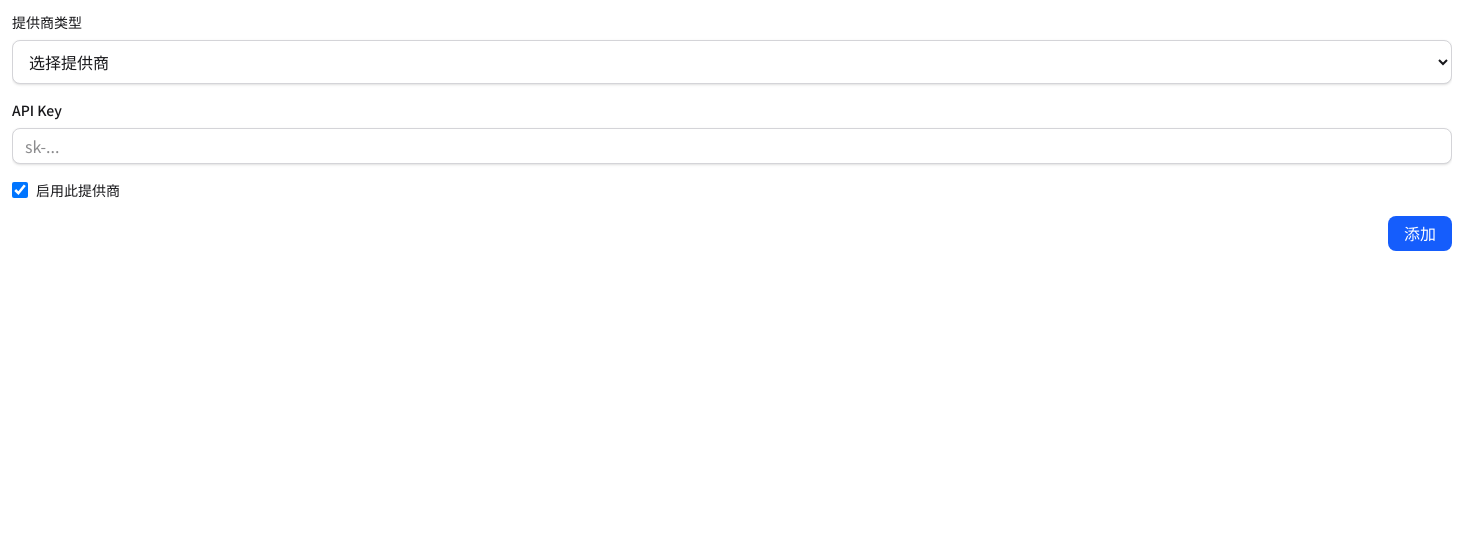
ProviderForm › shows extra fields when openai-compatible is selected
Select "OpenAI 兼容" in the dropdown labelled "提供商类型" at (732, 62), box top-left (12, 40), bottom-right (1452, 84)
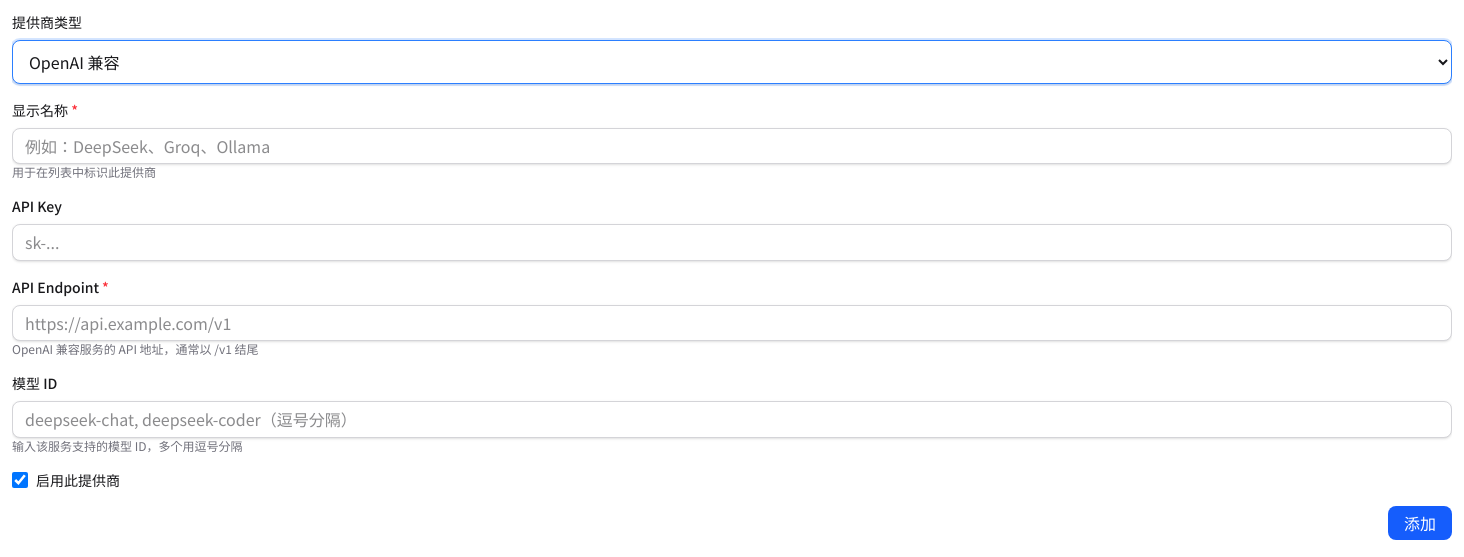
Now the field labelled "显示名称 *" is shown, box top-left (12, 128), bottom-right (1452, 164)
Now the field labelled "API Endpoint *" is shown, box top-left (12, 305), bottom-right (1452, 341)
Now the field labelled "模型 ID" is shown, box top-left (12, 401), bottom-right (1452, 438)
